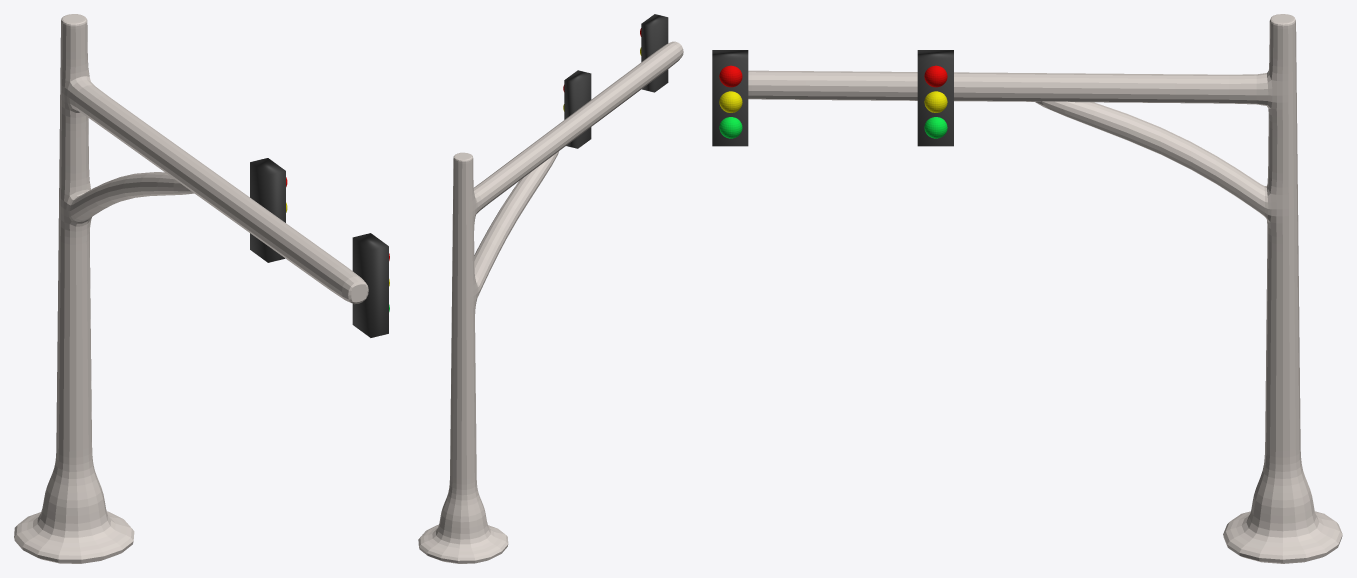
File: Traffic_Light.fbx
3 views of the same model, side by side, from view 1: azimuth 30°, elevation 25°; view 2: azimuth 150°, elevation 25°; view 3: azimuth 270°, elevation 25° (orthographic). The views are drawn at different scales.
Parts seen in each view (by area): view 1: Base, Base_Light_Left, Base_Light_Right; view 2: Base, Base_Light_Right, Base_Light_Left; view 3: Base, Base_Light_Left, Base_Light_Right, Light_Left, Light_Right.
Boxes of the visible parts, x1=… form: Base: x1=14, y1=14, x2=368, y2=563; Base_Light_Left: x1=352, y1=233, x2=388, y2=337; Base_Light_Right: x1=250, y1=158, x2=285, y2=262; Base: x1=418, y1=41, x2=683, y2=563; Base_Light_Right: x1=564, y1=70, x2=591, y2=148; Base_Light_Left: x1=641, y1=14, x2=668, y2=92; Base: x1=748, y1=14, x2=1342, y2=563; Base_Light_Left: x1=712, y1=50, x2=748, y2=146; Base_Light_Right: x1=917, y1=50, x2=953, y2=146; Light_Left: x1=719, y1=65, x2=742, y2=138; Light_Right: x1=924, y1=65, x2=947, y2=138.
Bounding box in the file's own units: 176 × 856 × 927.
